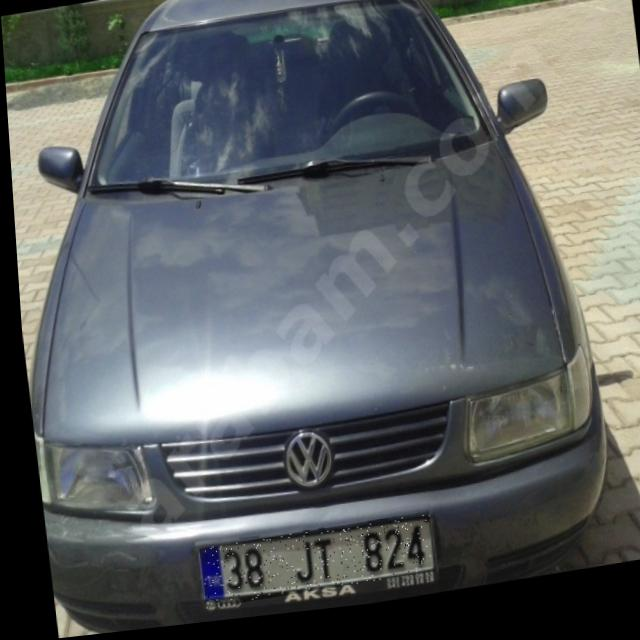license_plate: (191, 520, 428, 612)
